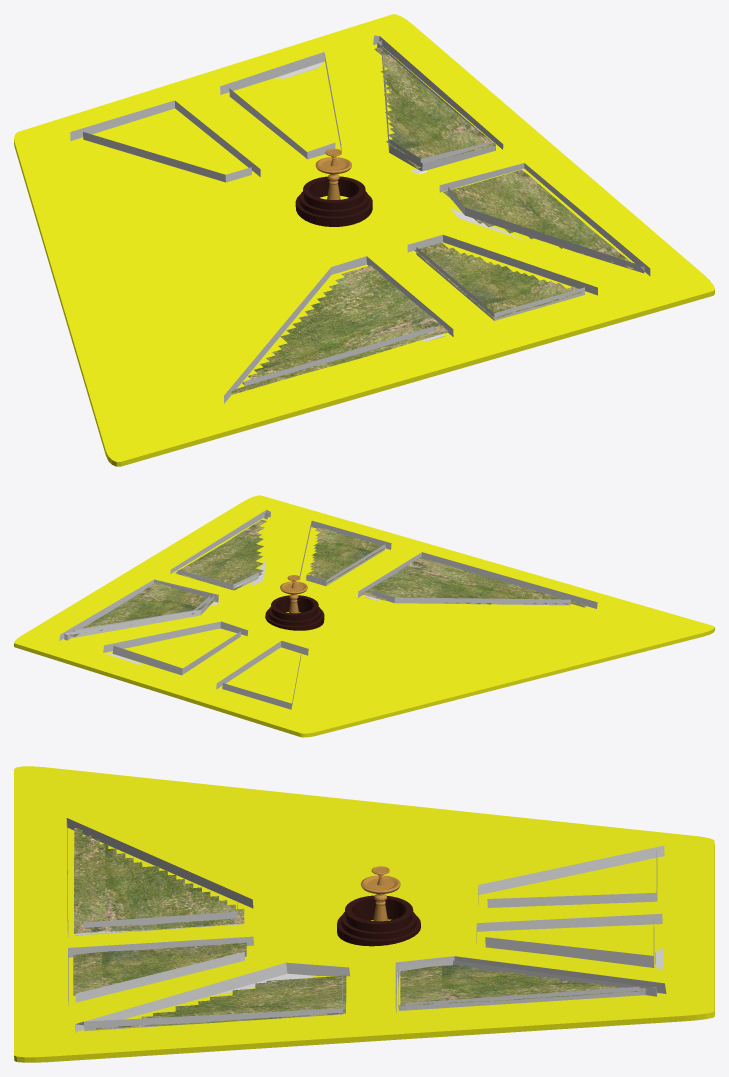
The model's file is plaza_uncia.glb.
The picture shows the model from 3 angles, top to bottom: view 1: azimuth 30°, elevation 25°; view 2: azimuth 150°, elevation 25°; view 3: azimuth 270°, elevation 25°; orthographic projection. The views are drawn at different scales.
Visible parts, largest first — view 1: pPlane1.003; view 2: pPlane1.003; view 3: pPlane1.003.
Boxes of the visible parts, x1,y1,x2,y2 form: pPlane1.003: (14, 14, 714, 466); pPlane1.003: (14, 495, 714, 737); pPlane1.003: (14, 766, 714, 1062).
Bounding box in the file's own units: 25.34 × 3.95 × 23.36.
Materials: 7 (4 with a texture image).
